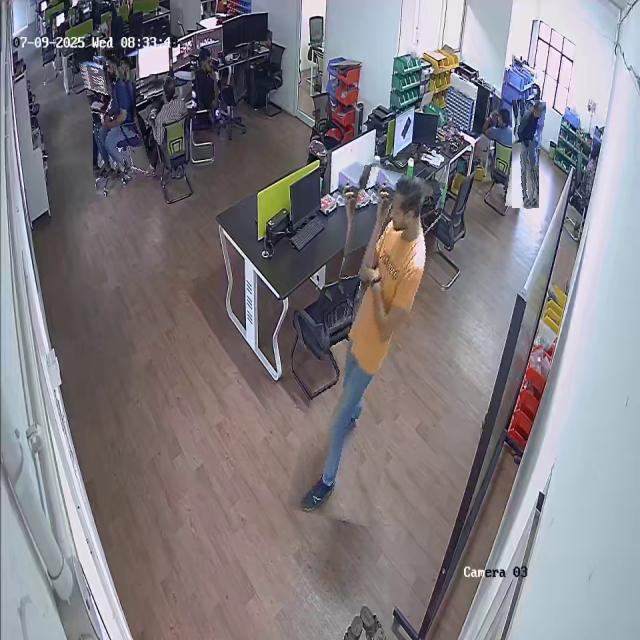person: (305, 167, 429, 525), (85, 55, 144, 179), (508, 100, 543, 208), (146, 75, 186, 129), (191, 49, 219, 109)
